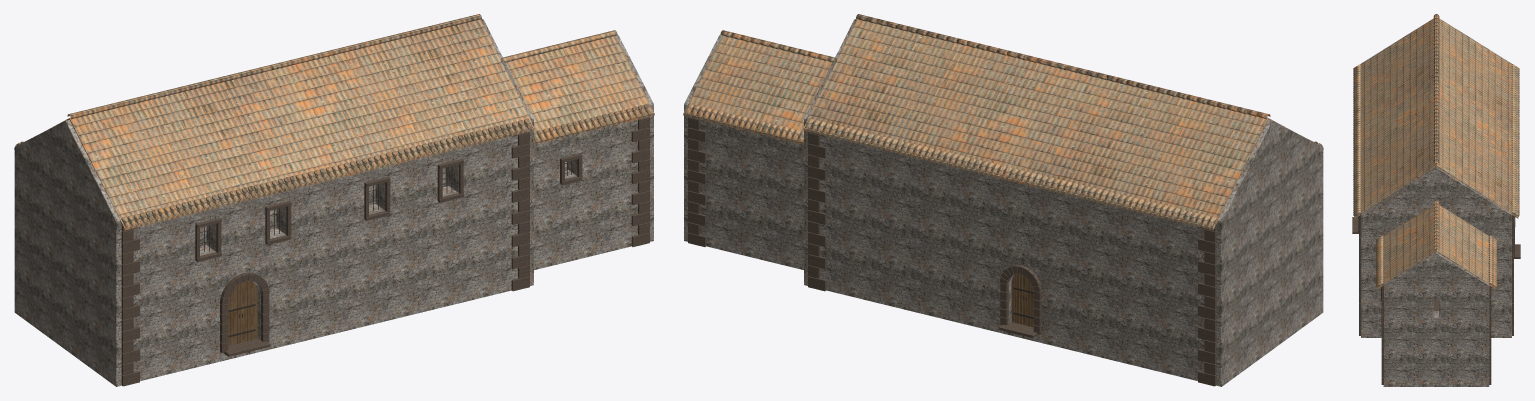
File: duero76_veracruz512.glb
The picture shows the model from 3 angles, left to right: view 1: azimuth 30°, elevation 25°; view 2: azimuth 150°, elevation 25°; view 3: azimuth 270°, elevation 25°; orthographic projection. The views are drawn at different scales.
Parts seen in each view (by area): view 1: Vera68_Vera68_CC0_irregular_rubble, Vera68_Vera68_CC0_barrel_tiles, Vera68_Vera68_CC0_cut_limestone, Vera68_Vera68_CC0_weathered_timber, Vera68_Vera68_weathered_forged_grilles; view 2: Vera68_Vera68_CC0_irregular_rubble, Vera68_Vera68_CC0_barrel_tiles, Vera68_Vera68_CC0_cut_limestone, Vera68_Vera68_CC0_weathered_timber; view 3: Vera68_Vera68_CC0_barrel_tiles, Vera68_Vera68_CC0_irregular_rubble, Vera68_Vera68_CC0_cut_limestone.
Part boxes in pixels (box(x1,y1,x2,y2)): Vera68_Vera68_CC0_irregular_rubble: box(14, 19, 653, 386); Vera68_Vera68_CC0_barrel_tiles: box(14, 14, 654, 230); Vera68_Vera68_CC0_cut_limestone: box(121, 107, 649, 386); Vera68_Vera68_CC0_weathered_timber: box(228, 281, 257, 345); Vera68_Vera68_weathered_forged_grilles: box(200, 161, 574, 337); Vera68_Vera68_CC0_irregular_rubble: box(684, 19, 1323, 386); Vera68_Vera68_CC0_barrel_tiles: box(683, 14, 1323, 230); Vera68_Vera68_CC0_cut_limestone: box(688, 107, 1216, 386); Vera68_Vera68_CC0_weathered_timber: box(1011, 273, 1033, 327); Vera68_Vera68_CC0_barrel_tiles: box(1353, 14, 1519, 289); Vera68_Vera68_CC0_irregular_rubble: box(1361, 19, 1511, 386); Vera68_Vera68_CC0_cut_limestone: box(1352, 215, 1520, 384).
Size of the model in its own units: 23.74 by 9.62 by 8.44.
7 materials, 6 textured.
